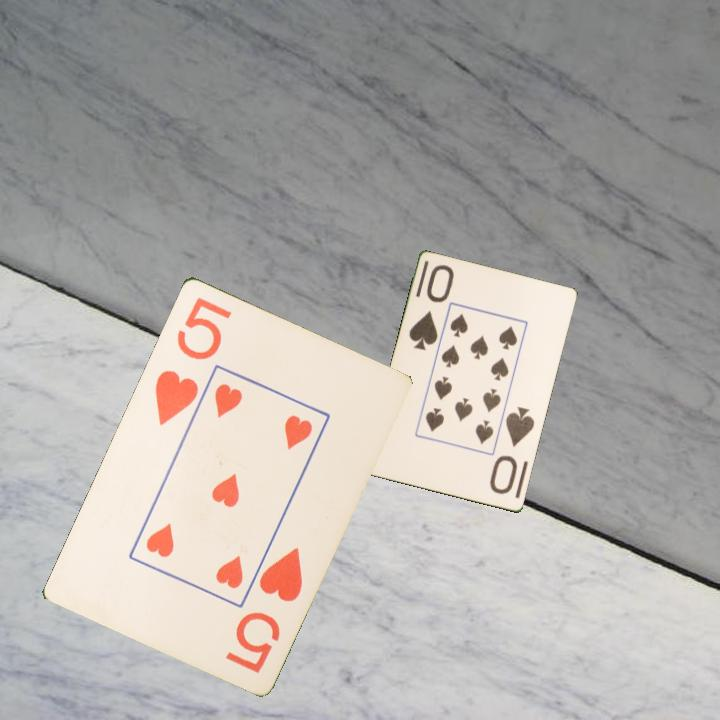10s: (486, 403, 538, 497), (405, 261, 457, 354)
5h: (150, 292, 235, 428), (221, 543, 306, 676)
